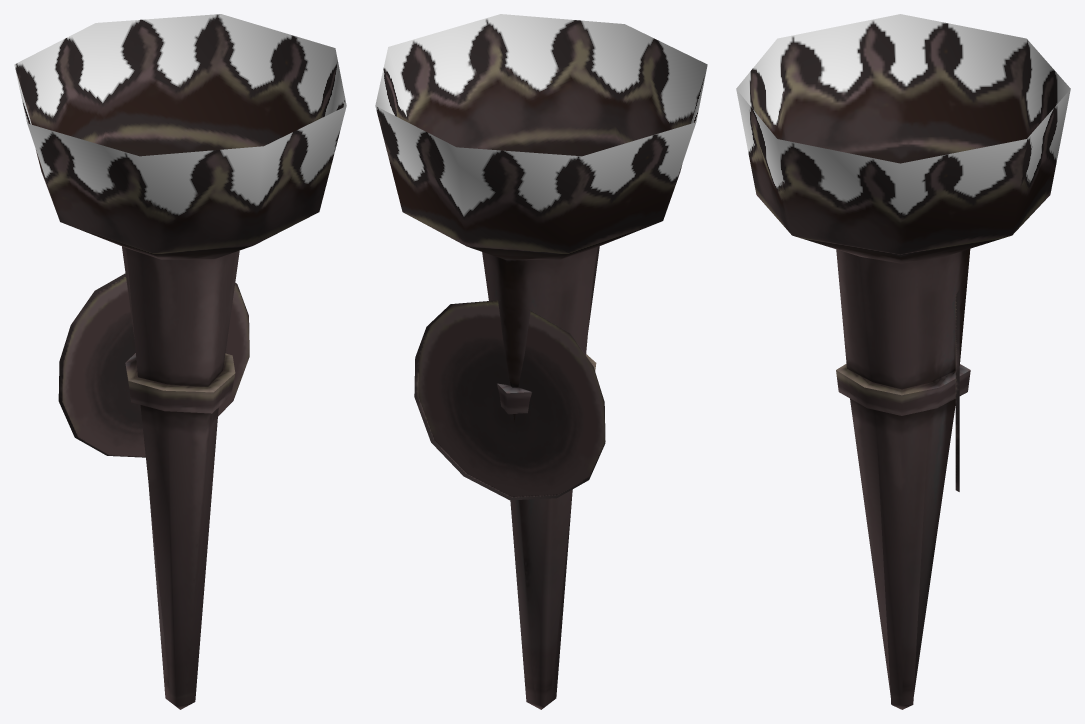
File: Torch.FBX
3 renders of one model, left to right at view 1: azimuth 30°, elevation 25°; view 2: azimuth 150°, elevation 25°; view 3: azimuth 270°, elevation 25°, orthographic.
Parts seen in each view (by area): view 1: Object078; view 2: Object078; view 3: Object078.
Boxes of the visible parts, x1,y1,x2,y2 form: Object078: [14, 14, 346, 709]; Object078: [375, 14, 707, 709]; Object078: [736, 14, 1070, 709].
Size of the model in its own units: 40.83 by 79.08 by 38.61.
